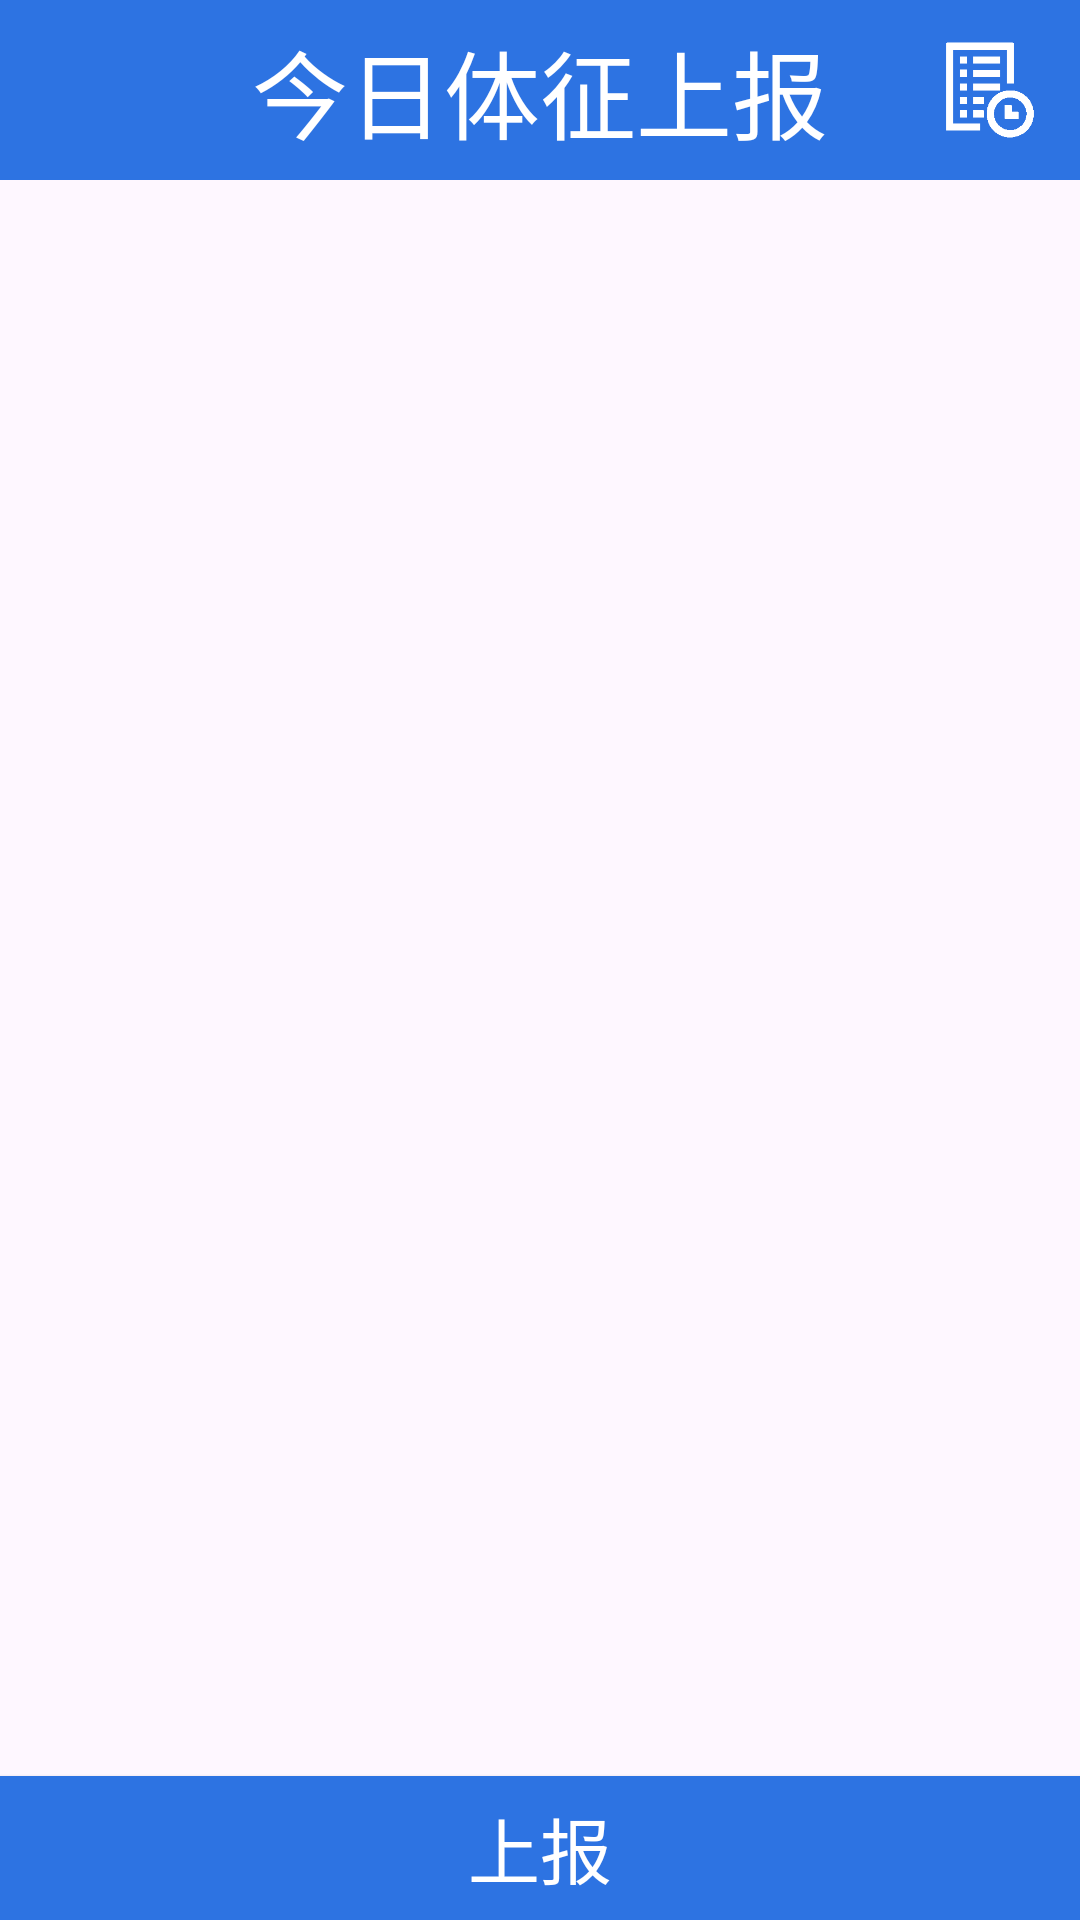

Screen size 1080x1920. Icon name, then its center in pixels as (x,y):
history list: (990,90)
